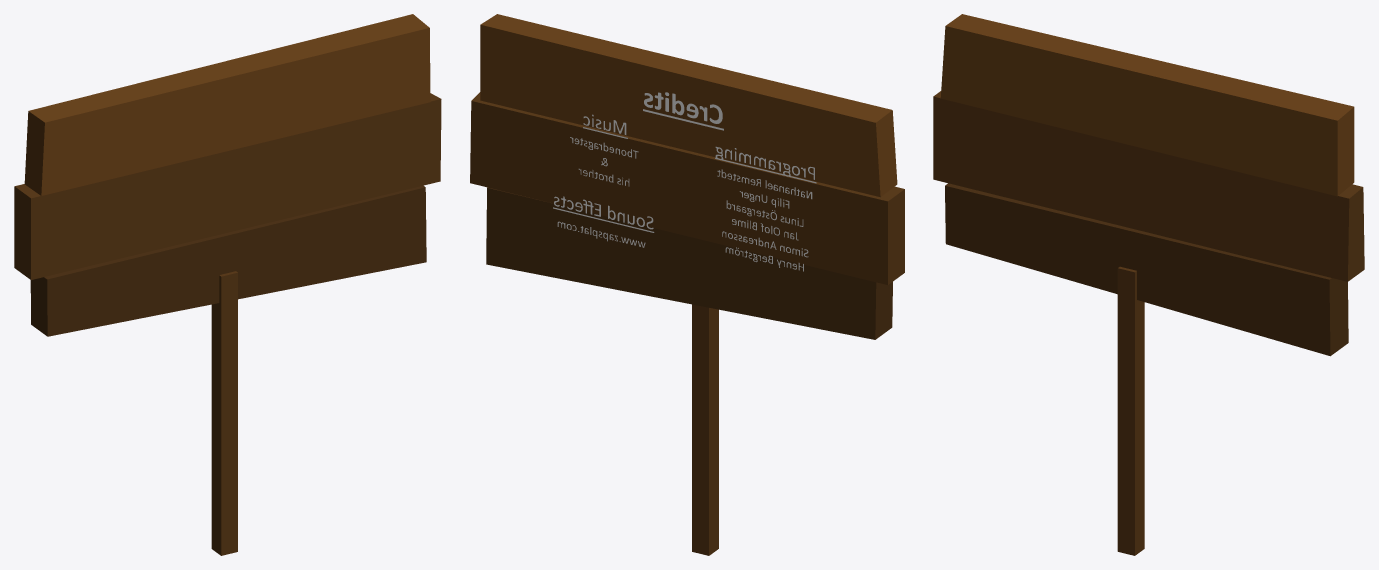
The model's file is CreditsSign.obj.
3 renders of one model, left to right at view 1: azimuth 30°, elevation 25°; view 2: azimuth 150°, elevation 25°; view 3: azimuth 330°, elevation 25°, orthographic. The views are drawn at different scales.
Visible parts, largest first — view 1: Cube.007, Cube.009, Cube.010, Cube.008; view 2: Cube.009, Cube.007, Cube.010, Cube.008, Plane.002; view 3: Cube.007, Cube.009, Cube.010, Cube.008.
Boxes of the visible parts, x1=… form: Cube.007: x1=24, y1=14, x2=430, y2=195; Cube.009: x1=14, y1=93, x2=441, y2=279; Cube.010: x1=30, y1=185, x2=426, y2=336; Cube.008: x1=211, y1=271, x2=237, y2=555; Cube.009: x1=470, y1=92, x2=904, y2=284; Cube.007: x1=480, y1=14, x2=897, y2=197; Cube.010: x1=486, y1=187, x2=892, y2=339; Cube.008: x1=692, y1=304, x2=718, y2=555; Plane.002: x1=553, y1=92, x2=816, y2=271; Cube.007: x1=940, y1=14, x2=1354, y2=196; Cube.009: x1=933, y1=91, x2=1364, y2=281; Cube.010: x1=945, y1=183, x2=1348, y2=356; Cube.008: x1=1117, y1=266, x2=1144, y2=555.
Bounding box in the file's own units: 1.85 × 2.05 × 0.1711.
